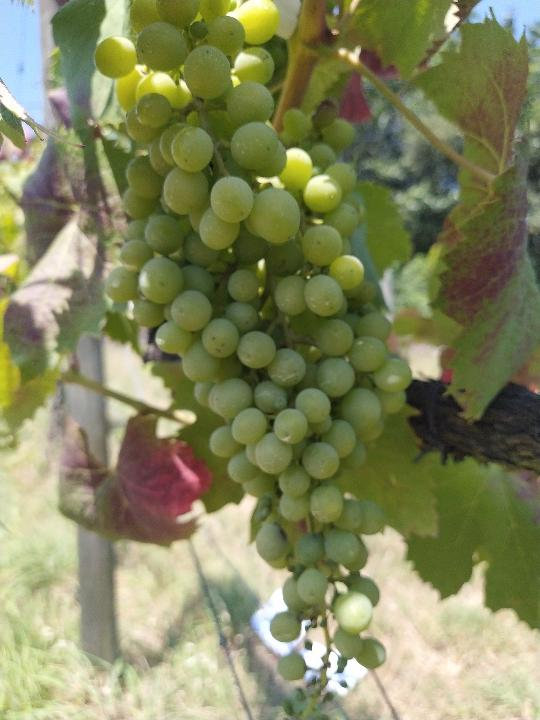grape: (94, 3, 410, 717)
